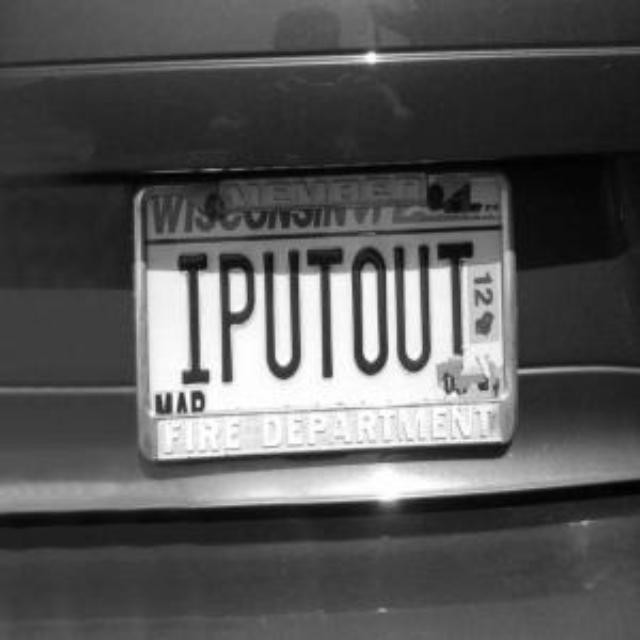License Plate: (134, 171, 518, 461)
